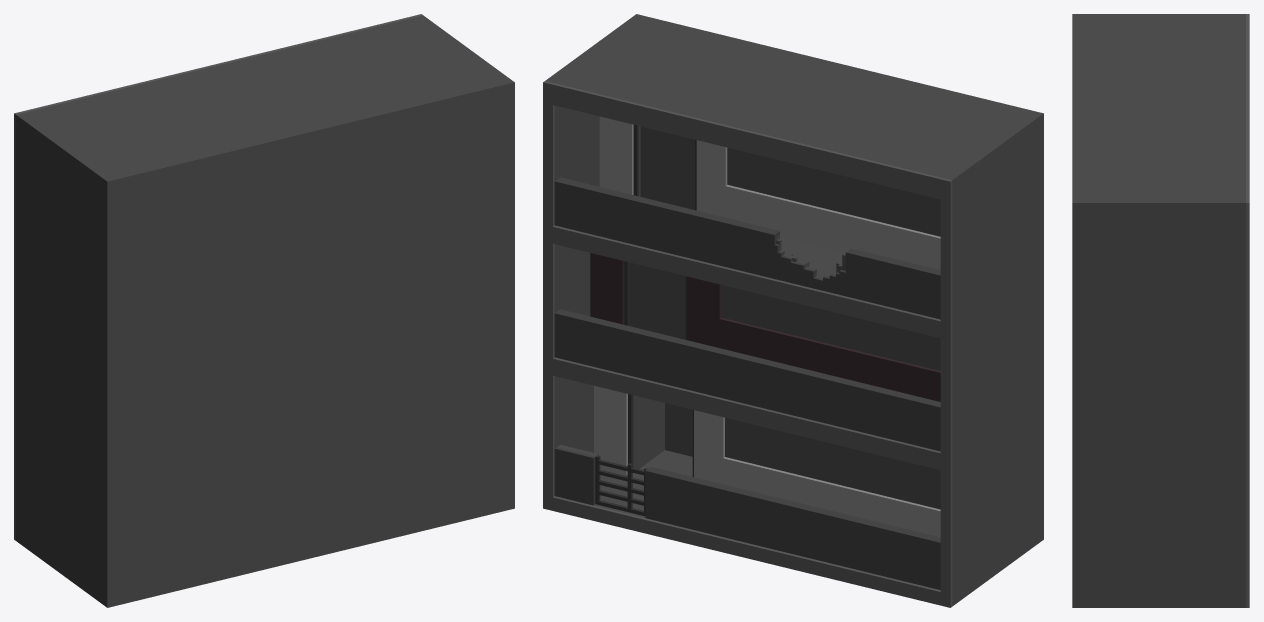
File: Building_BaseResident-1.obj
3 views of the same model, side by side, from view 1: azimuth 30°, elevation 25°; view 2: azimuth 150°, elevation 25°; view 3: azimuth 270°, elevation 25° (orthographic). The views are drawn at different scales.
Bounding box in the file's own units: 12.6 × 12.6 × 5.
Materials: 1 (1 with a texture image).
